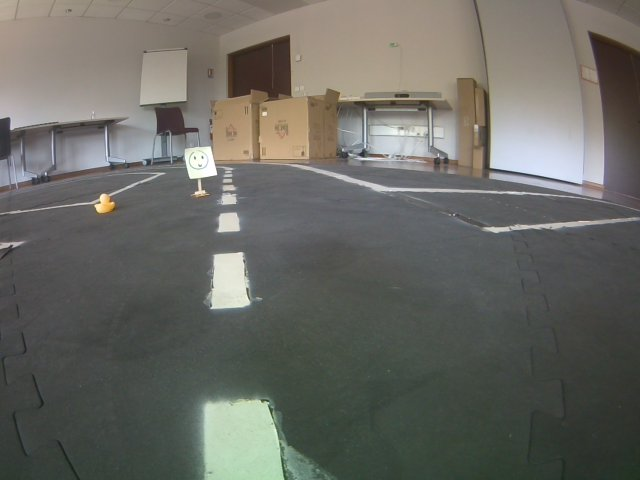Smiley: (182, 143, 219, 178)
